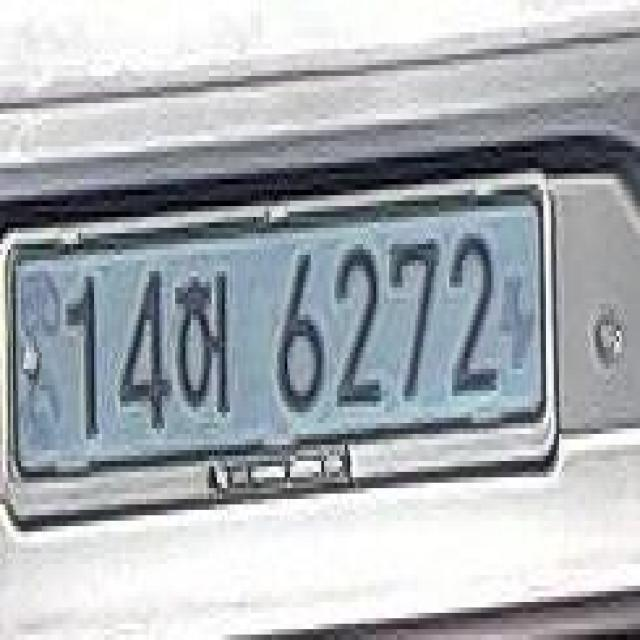EV_plate: (4, 176, 565, 515)
